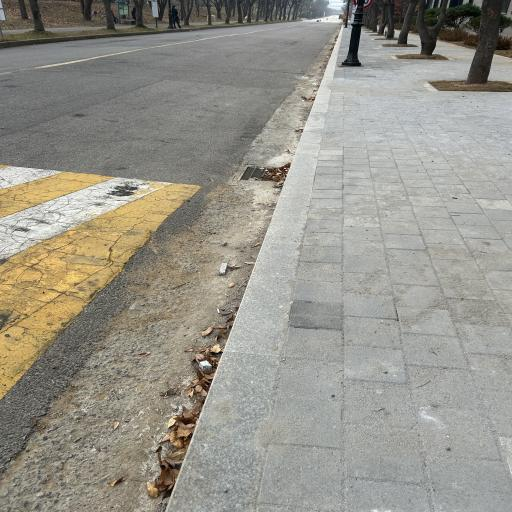debris: (261, 167, 284, 181), (270, 167, 273, 170)
drain: (242, 165, 290, 182)
